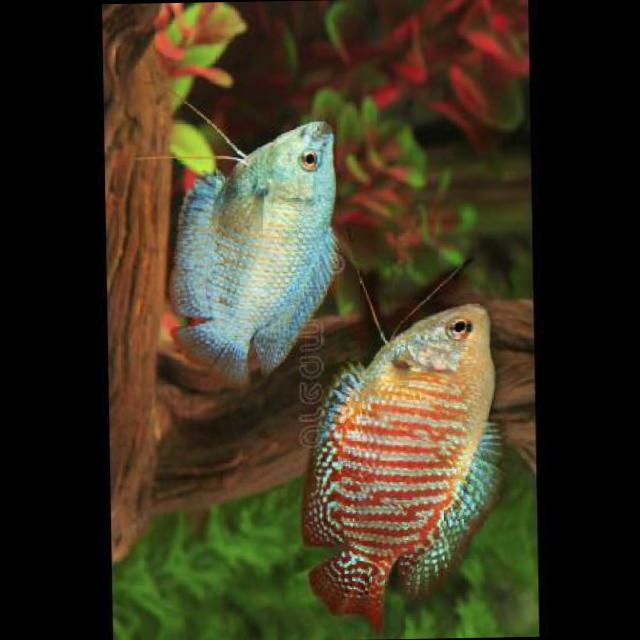Gourami: (296, 298, 512, 624), (167, 115, 346, 389)
